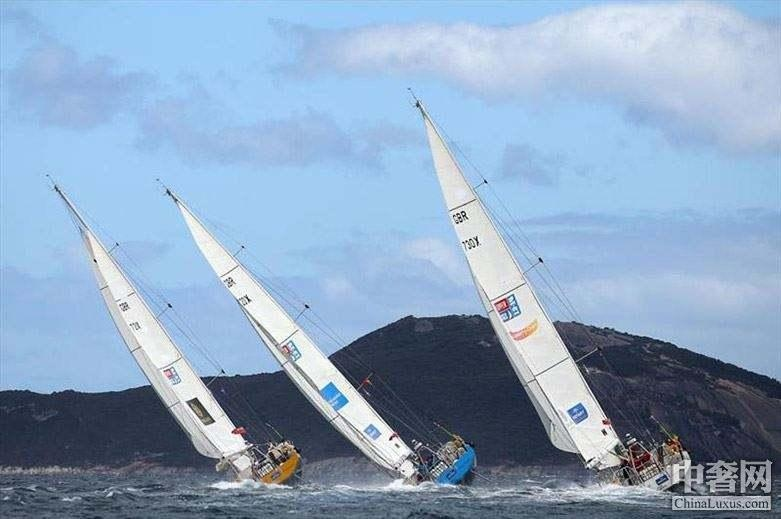fanchuan: (404, 87, 709, 497), (159, 174, 492, 492), (37, 169, 308, 486)
